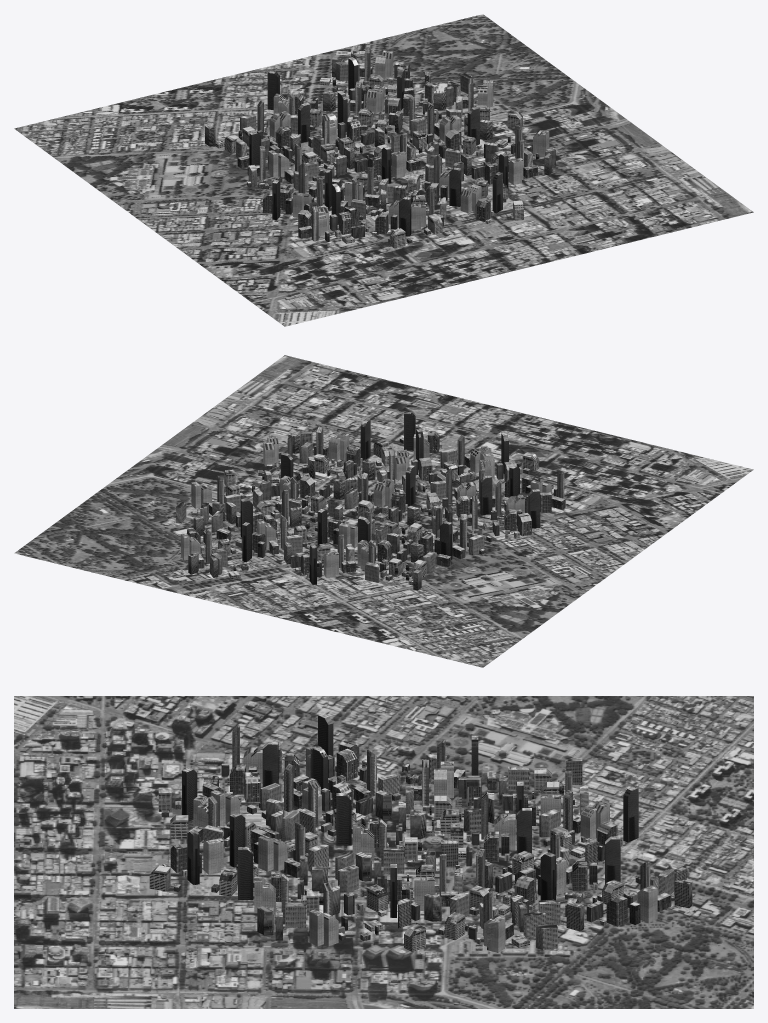
Rendered from ps1_city_2.glb.
3 views of the same model, one above another, from view 1: azimuth 30°, elevation 25°; view 2: azimuth 150°, elevation 25°; view 3: azimuth 270°, elevation 25° (orthographic). The views are drawn at different scales.
Parts seen in each view (by area): view 1: Plane, city; view 2: Plane, city; view 3: Plane, city.
Part boxes in pixels (x1=…): Plane: x1=14, y1=14, x2=753, y2=326; city: x1=205, y1=47, x2=555, y2=248; Plane: x1=14, y1=355, x2=753, y2=667; city: x1=176, y1=412, x2=565, y2=590; Plane: x1=14, y1=696, x2=753, y2=1008; city: x1=149, y1=713, x2=692, y2=952.
Bounding box in the file's own units: 100 × 7.58 × 100.
Materials: 3 (3 with a texture image).
